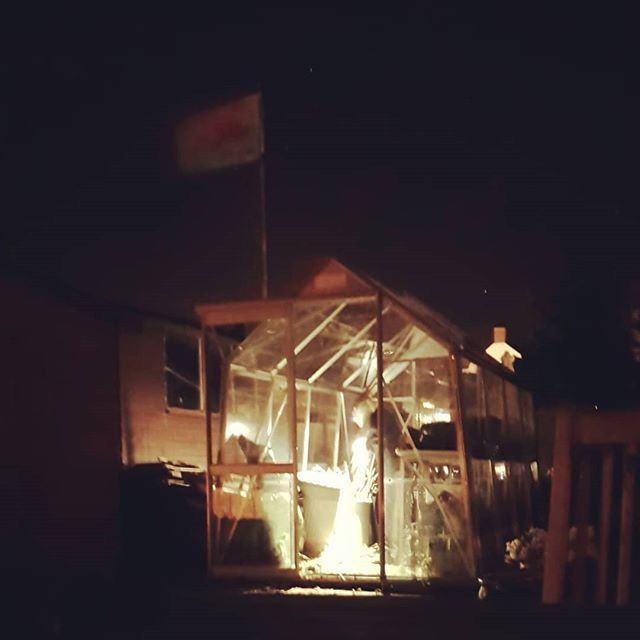building: (117, 212, 569, 640)
